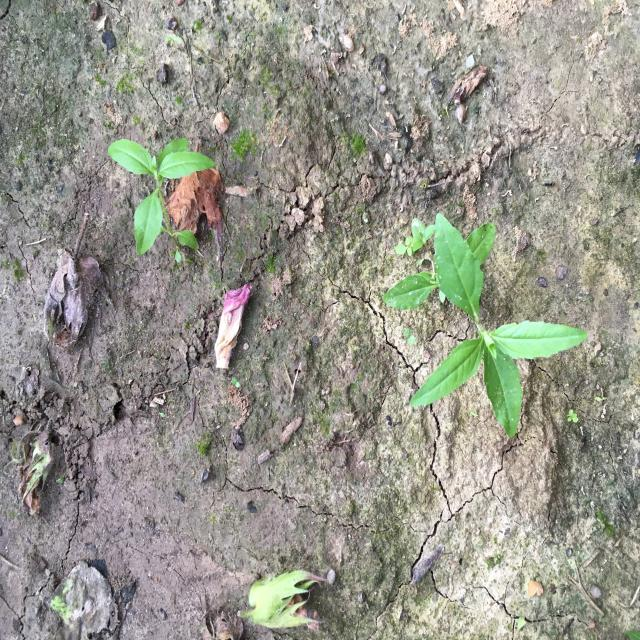Eclipta: (380, 212, 589, 439), (107, 136, 217, 265)
